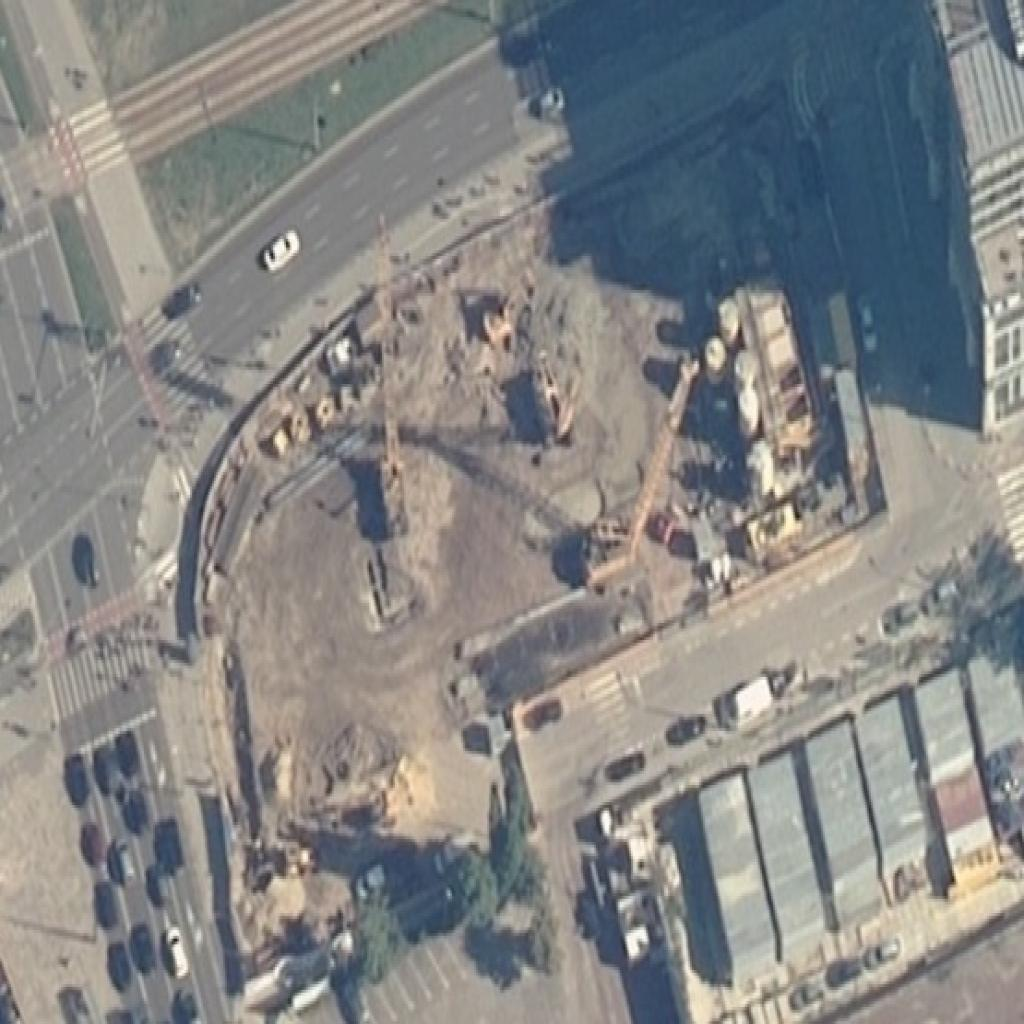koparka: (525, 340, 588, 447), (473, 264, 541, 352)
samochod_osobowy: (428, 820, 475, 882), (352, 855, 390, 907)
spychacz: (277, 840, 322, 880)
zuraw_mobilny: (577, 348, 703, 598), (374, 208, 412, 537)
